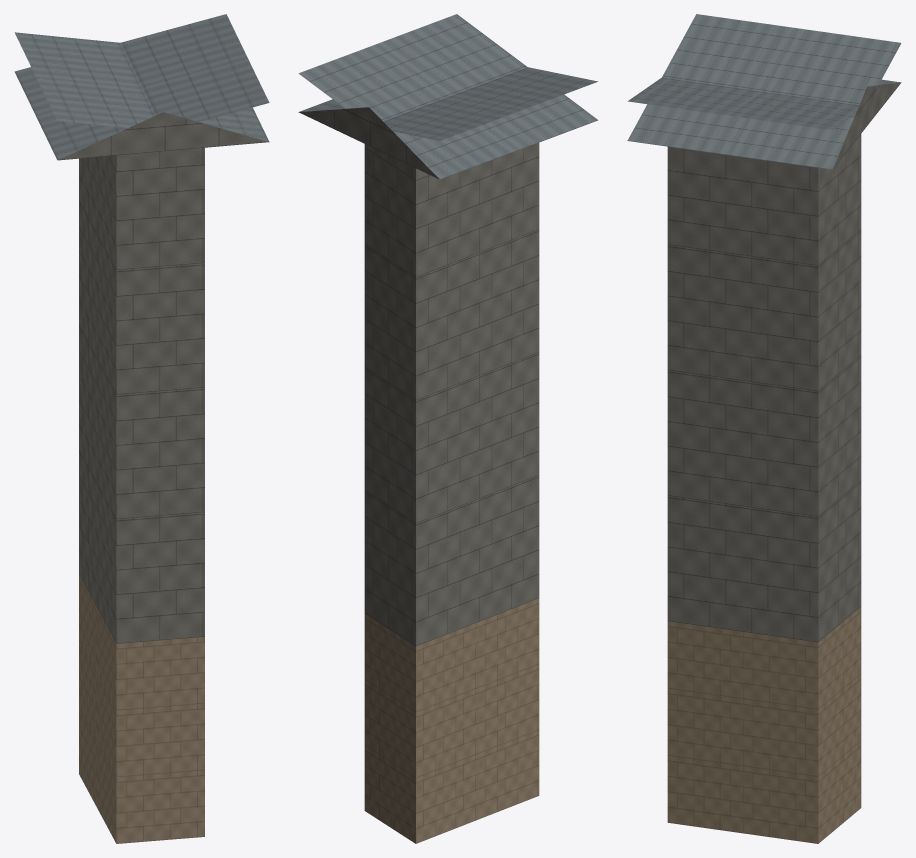
The model's file is bld_c35_-26_451.gltf.
3 views of the same model, side by side, from view 1: azimuth 30°, elevation 25°; view 2: azimuth 150°, elevation 25°; view 3: azimuth 270°, elevation 25° (orthographic). The views are drawn at different scales.
Parts seen in each view (by area): view 1: bld_c35_-26_451; view 2: bld_c35_-26_451; view 3: bld_c35_-26_451.
Boxes of the visible parts, <box> form: bld_c35_-26_451: <box>14,14,269,843</box>; bld_c35_-26_451: <box>298,14,597,843</box>; bld_c35_-26_451: <box>627,14,901,843</box>.
Size of the model in its own units: 6.31 by 18.8 by 6.29.
4 materials, 4 textured.
